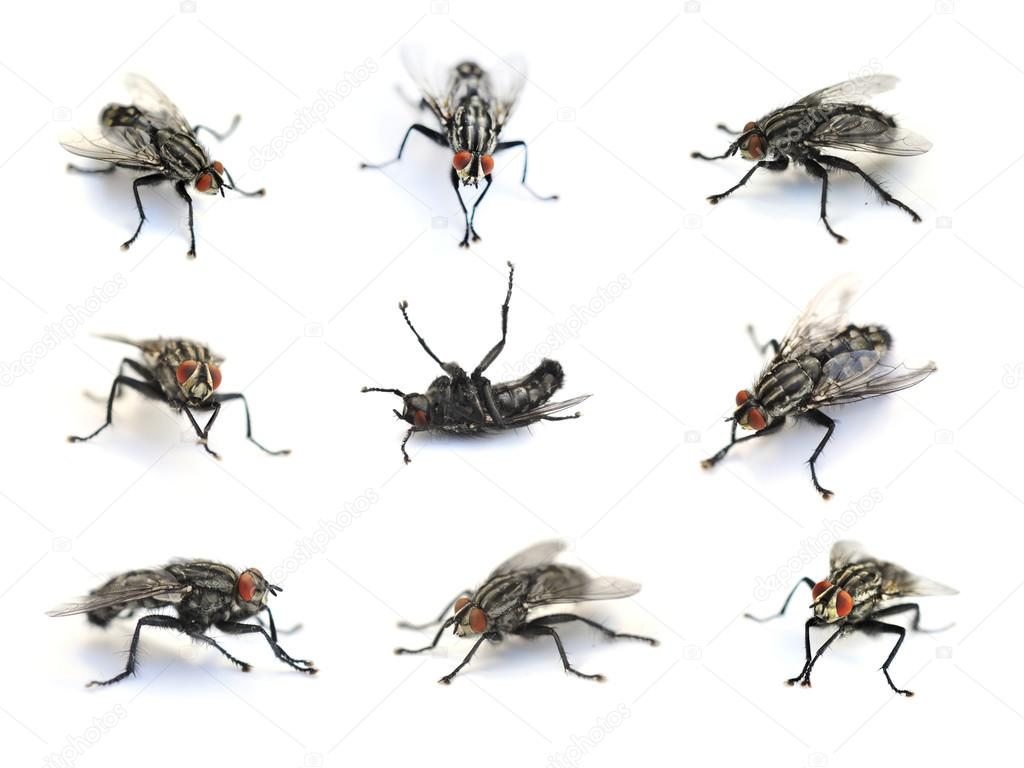house fly: (336, 250, 598, 476), (695, 289, 950, 507), (48, 64, 279, 270), (684, 70, 944, 253), (356, 36, 564, 262), (387, 534, 667, 693), (36, 551, 320, 697), (735, 530, 964, 710), (57, 324, 294, 475)
